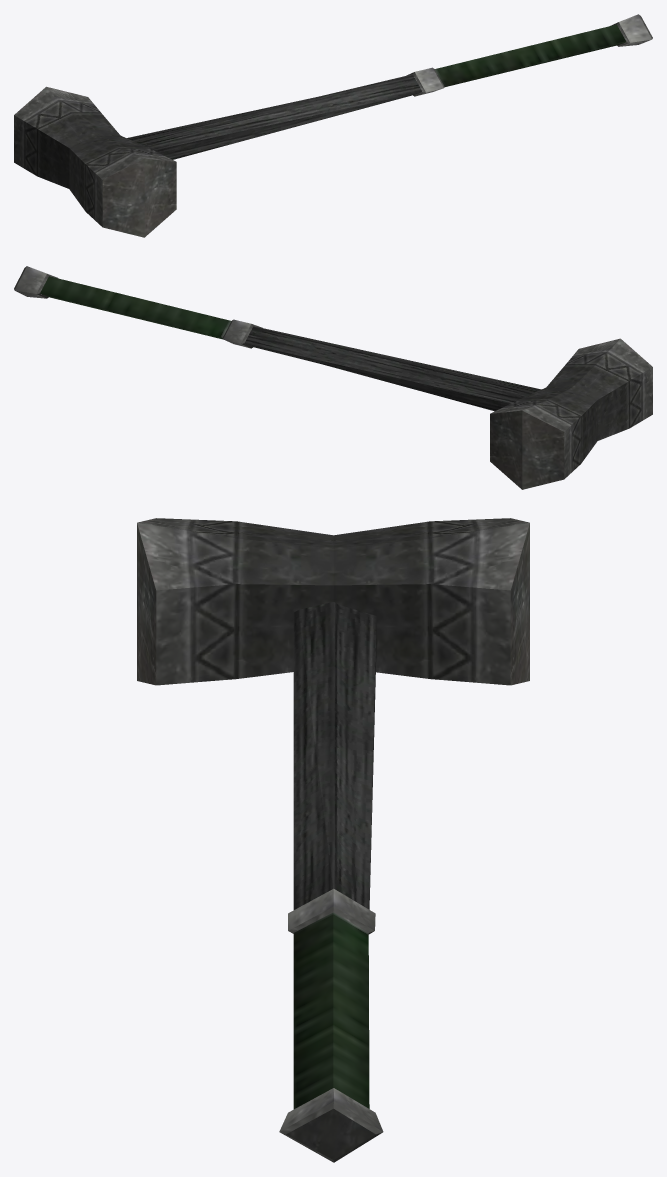
File: KM_1H_BLUNT_DEX_02.glb
3 views of the same model, one above another, from view 1: azimuth 30°, elevation 25°; view 2: azimuth 150°, elevation 25°; view 3: azimuth 270°, elevation 25° (orthographic). The views are drawn at different scales.
Parts seen in each view (by area): view 1: KM_1H_BLUNT_DEX_02; view 2: KM_1H_BLUNT_DEX_02; view 3: KM_1H_BLUNT_DEX_02.
Boxes of the visible parts, x1=… form: KM_1H_BLUNT_DEX_02: x1=14, y1=14, x2=652, y2=237; KM_1H_BLUNT_DEX_02: x1=14, y1=266, x2=652, y2=489; KM_1H_BLUNT_DEX_02: x1=137, y1=518, x2=529, y2=1162.
Size of the model in its own units: 0.6976 by 0.0905 by 0.2038.
Materials: 3 (3 with a texture image).
